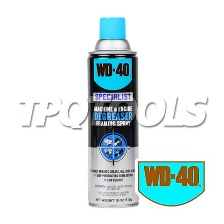cleaning_solution: (83, 12, 140, 210)
